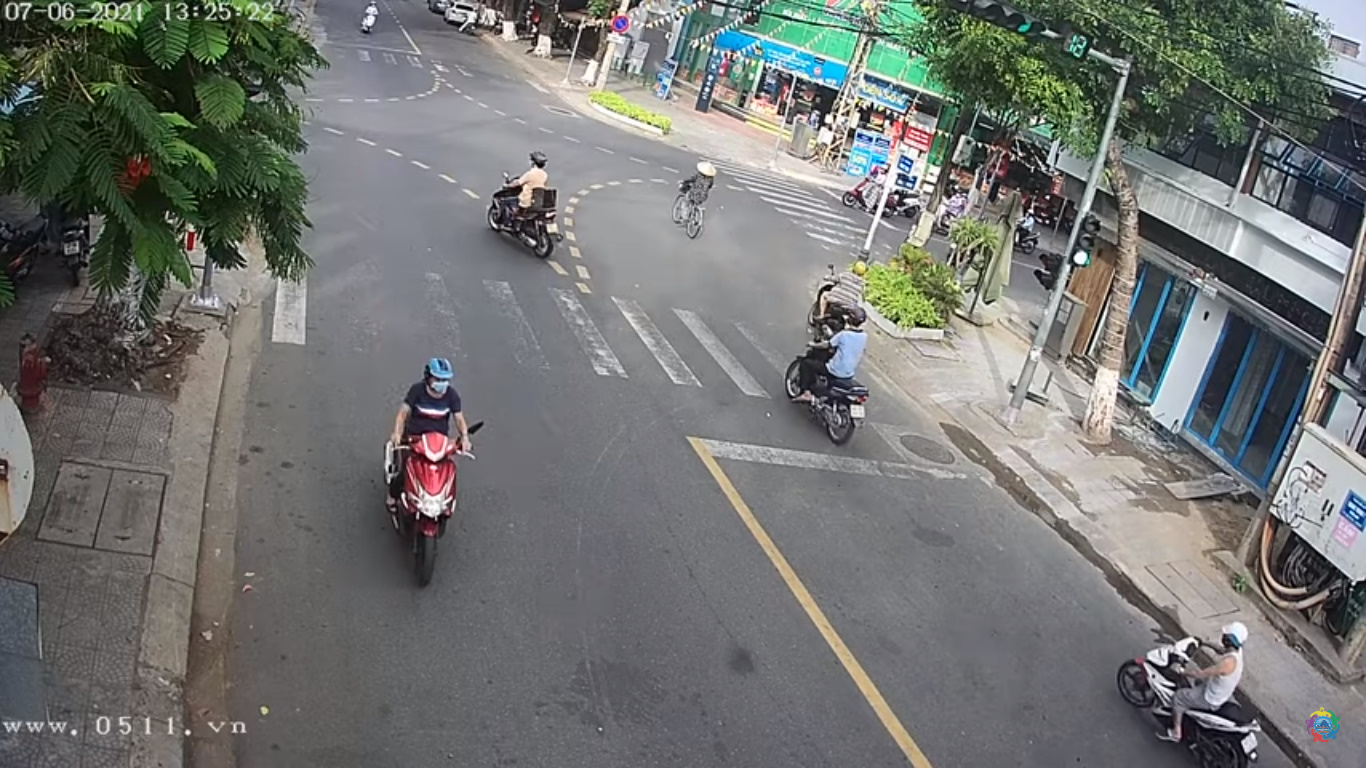motorbike: (387, 357, 476, 586)
